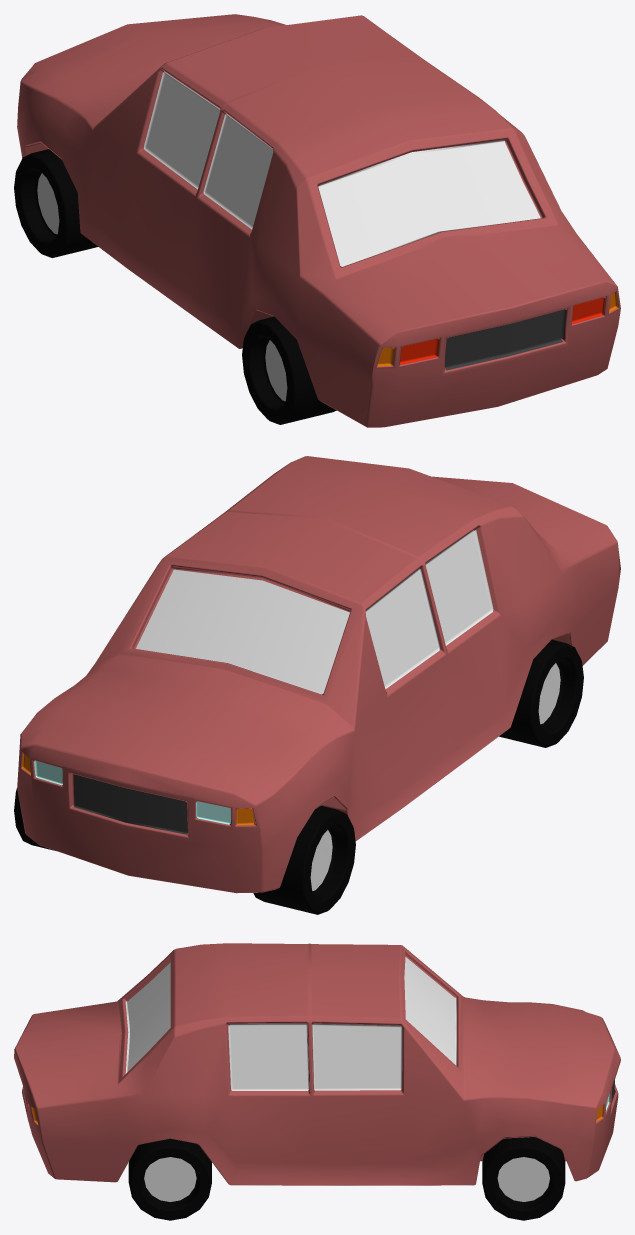
File: Red-Car.fbx
3 renders of one model, top to bottom at view 1: azimuth 30°, elevation 25°; view 2: azimuth 150°, elevation 25°; view 3: azimuth 270°, elevation 25°, orthographic. The views are drawn at different scales.
Parts seen in each view (by area): view 1: Cylinder.075; view 2: Cylinder.075; view 3: Cylinder.075.
Boxes of the visible parts, left/top/right/bottom form: Cylinder.075: left=14, top=14, right=620, bottom=427; Cylinder.075: left=14, top=456, right=620, bottom=914; Cylinder.075: left=14, top=943, right=620, bottom=1220.
Size of the model in its own units: 157 by 132 by 365.
